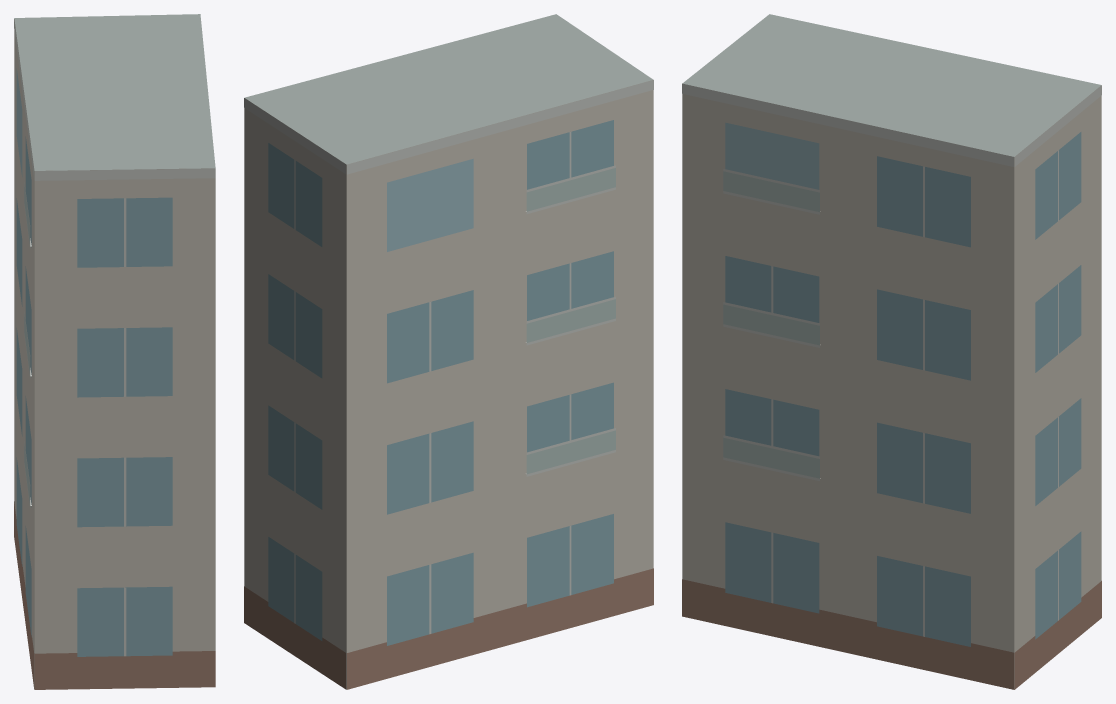
The model's file is survey-upis-32965623.glb.
3 views of the same model, side by side, from view 1: azimuth 30°, elevation 25°; view 2: azimuth 150°, elevation 25°; view 3: azimuth 270°, elevation 25° (orthographic). The views are drawn at different scales.
Parts seen in each view (by area): view 1: survey-upis-32965623.tmp; view 2: survey-upis-32965623.tmp; view 3: survey-upis-32965623.tmp.
Part boxes in pixels (x1,y1,x2,y2): survey-upis-32965623.tmp: (14,14,215,689); survey-upis-32965623.tmp: (244,14,653,689); survey-upis-32965623.tmp: (682,14,1101,689).
Size of the model in its own units: 7.32 by 12.7 by 9.07.
